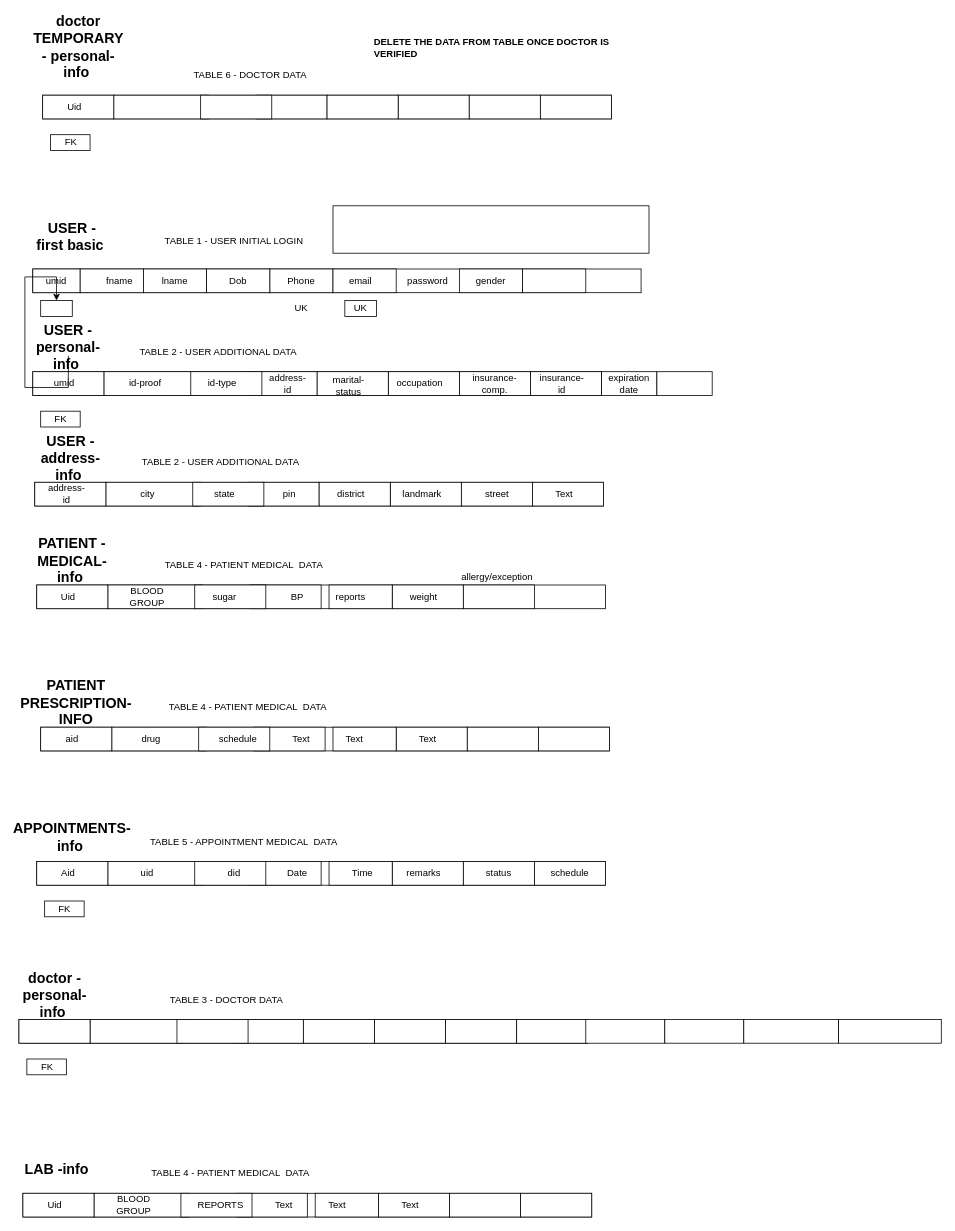
The diagram is 955 pixels wide and 1231 high, and some of its shapes have lost their labels. The shapes that lost their labels are listed below. From the top down, each one's centre as x and y in pixels, then its label:
At point (490, 229): "CHECK FOR UNIQUE KEYS ---> SELECT STATEMENT BEFORE INSERT STATEMENT".
At point (56, 308): "PK".
